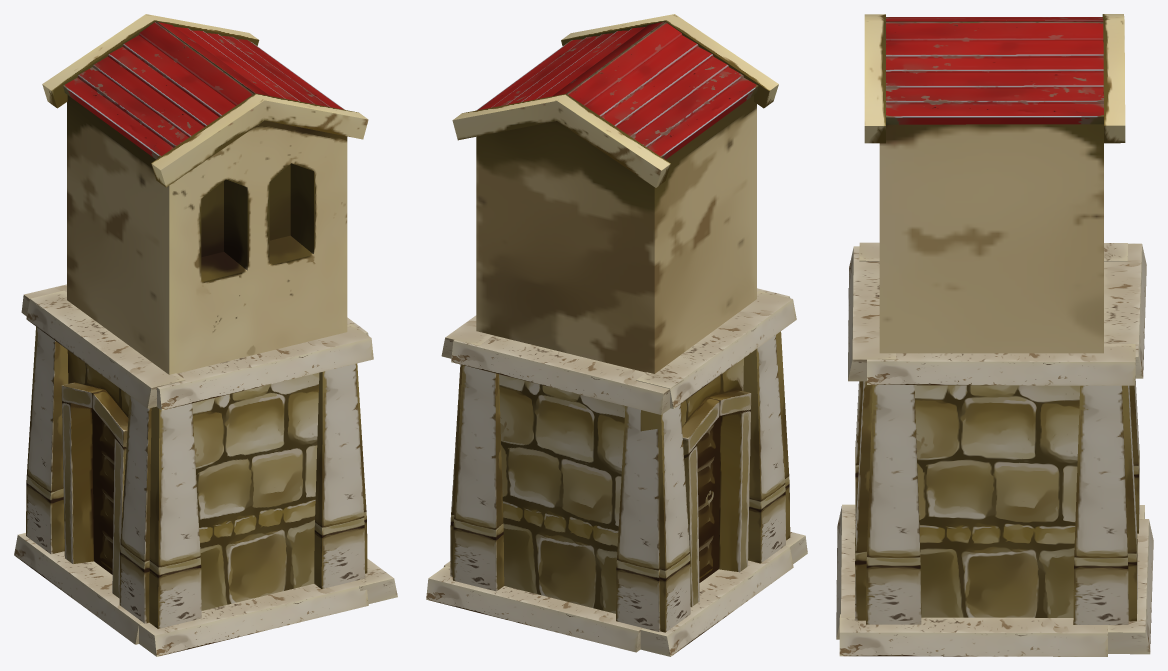
The model's file is Rome_Village_Buildings_15.FBX.
3 renders of one model, left to right at view 1: azimuth 30°, elevation 25°; view 2: azimuth 150°, elevation 25°; view 3: azimuth 270°, elevation 25°, orthographic. The views are drawn at different scales.
Visible parts, largest first — view 1: Rome_Village_Buildings_15; view 2: Rome_Village_Buildings_15; view 3: Rome_Village_Buildings_15.
Part boxes in pixels (x1,y1,x2,y2): Rome_Village_Buildings_15: (14, 14, 397, 656); Rome_Village_Buildings_15: (426, 14, 807, 656); Rome_Village_Buildings_15: (836, 14, 1153, 656).
Size of the model in its own units: 326 by 654 by 330.
